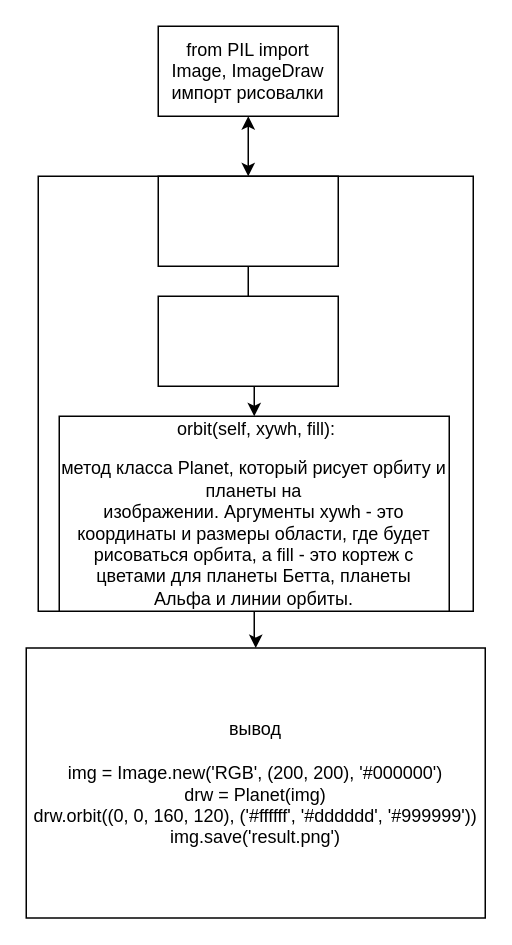
Some shapes in this 512 by 945 pixel diagram are drawn without their labels. The shapes that lost their labels are listed below. From the top down, each one's box as (x1, y1, x2, y2) in pixels, then its label:
(157, 175, 338, 266): class Planet: создали класс планеты
(157, 295, 338, 386): __init__(self, img): добавляем картинку
